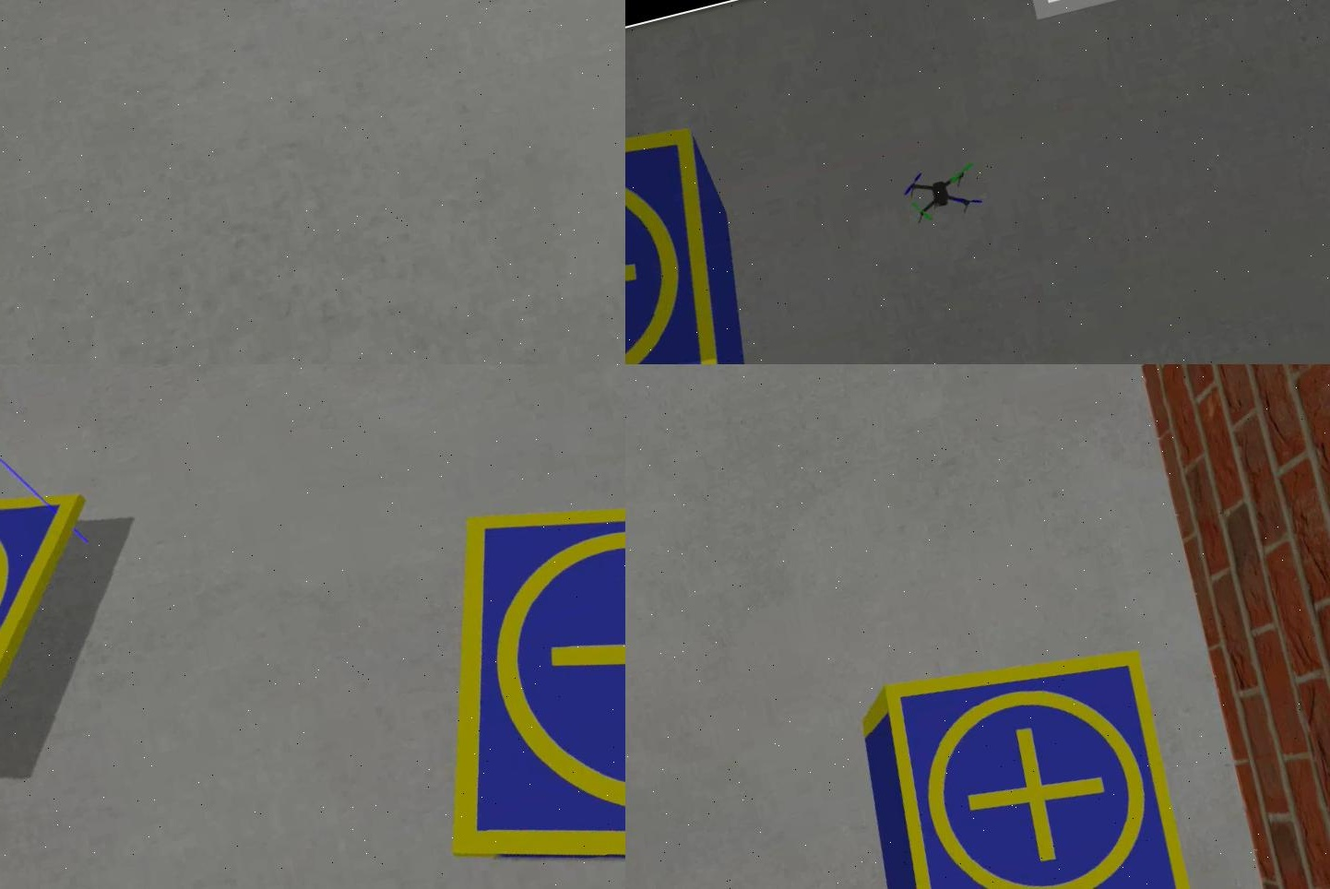small_base: (373, 433, 624, 889), (854, 624, 1203, 889), (0, 450, 139, 791), (624, 102, 757, 365)
